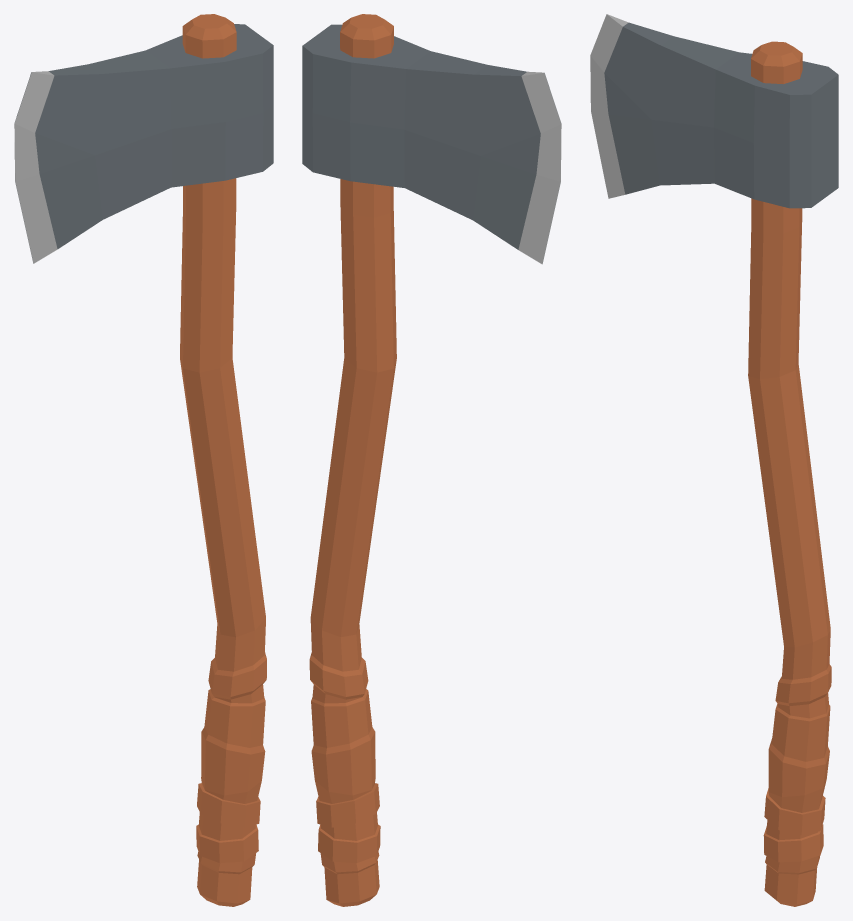
File: Axe.glb
3 views of the same model, side by side, from view 1: azimuth 30°, elevation 25°; view 2: azimuth 150°, elevation 25°; view 3: azimuth 330°, elevation 25° (orthographic). The views are drawn at different scales.
Visible parts, largest first — view 1: Axe; view 2: Axe; view 3: Axe.
Boxes of the visible parts, box(x1,y1,x2,y2) form: Axe: box(14, 14, 273, 906); Axe: box(302, 14, 561, 906); Axe: box(590, 14, 838, 906).
Bounding box in the file's own units: 0.1499 × 0.5095 × 0.0426.
Materials: 1 (1 with a texture image).
